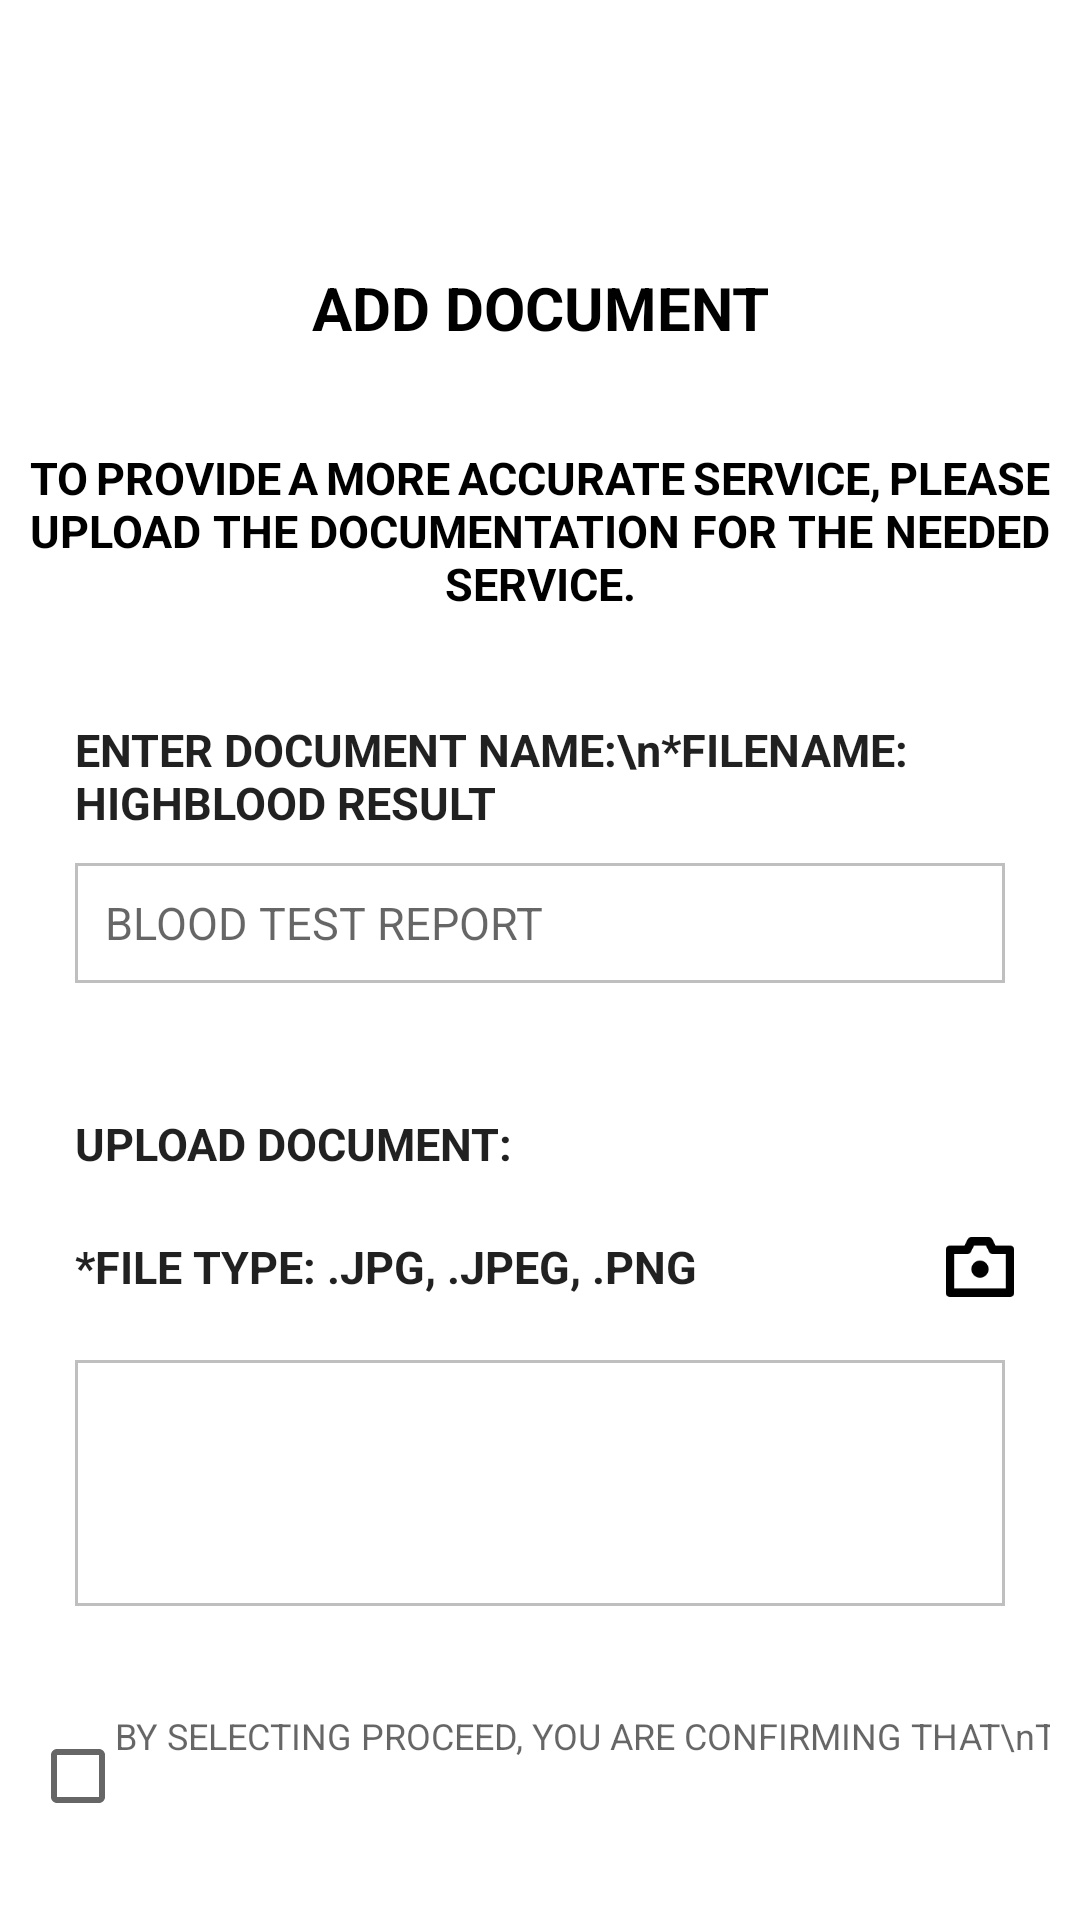

Screen size 1080×1920. Icon name, then its center in pixels as [x,y]:
scan: [980,1267]
